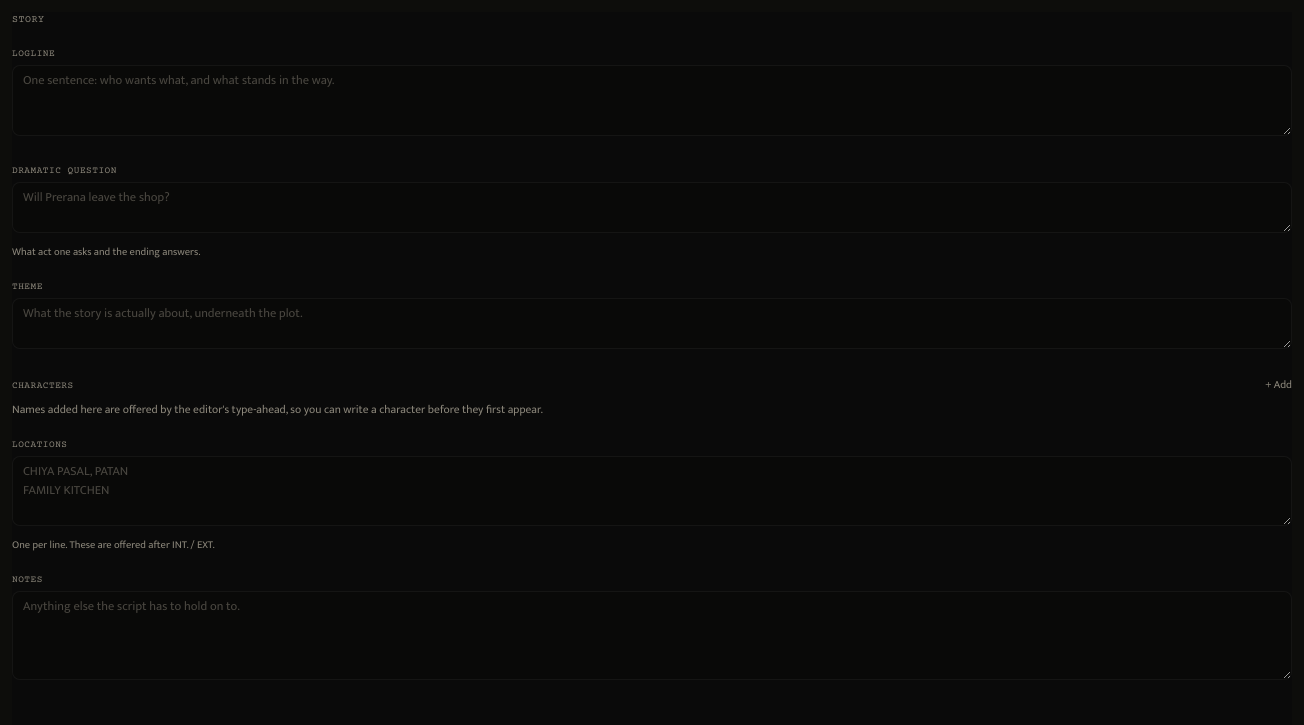
Scenario: characters › adds one and opens it
The width and height of the screenshot is (1304, 725).
Click the button "+ Add": (1279, 386) [1265,377,1292,394]
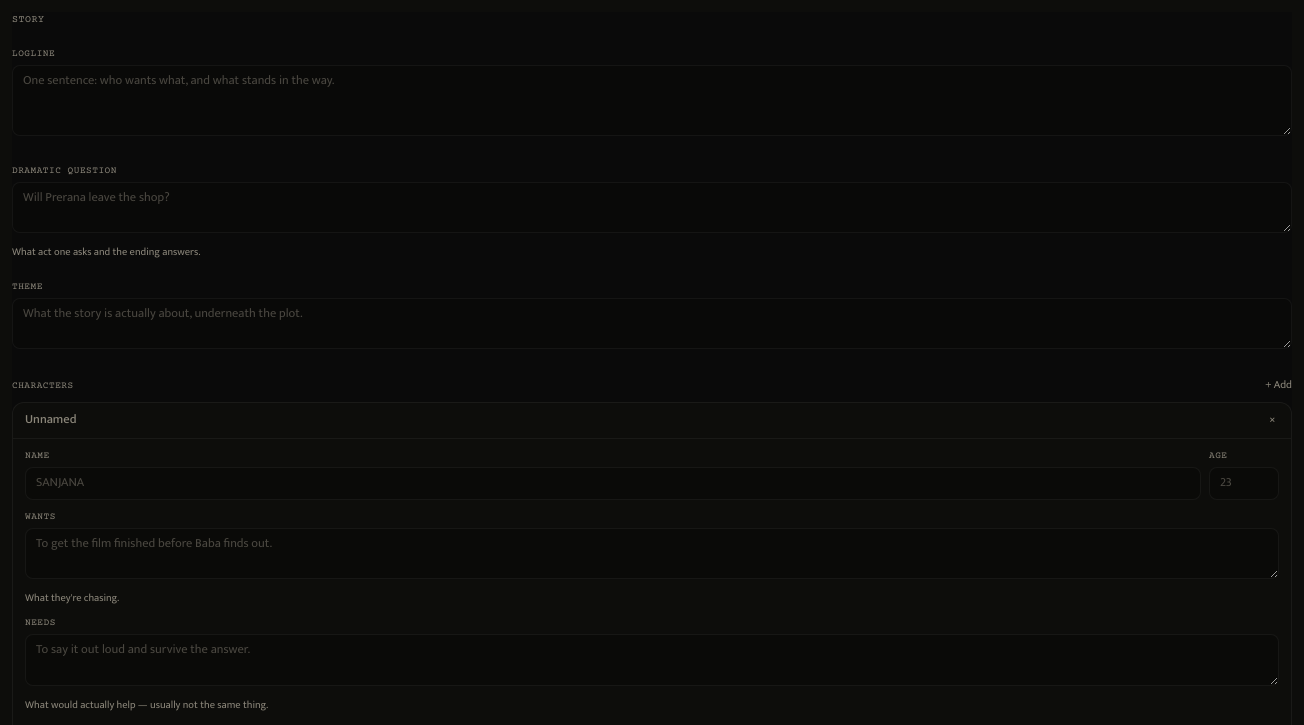
Now the field with placeholder "SANJANA" is shown, box [25,467,1201,500]
